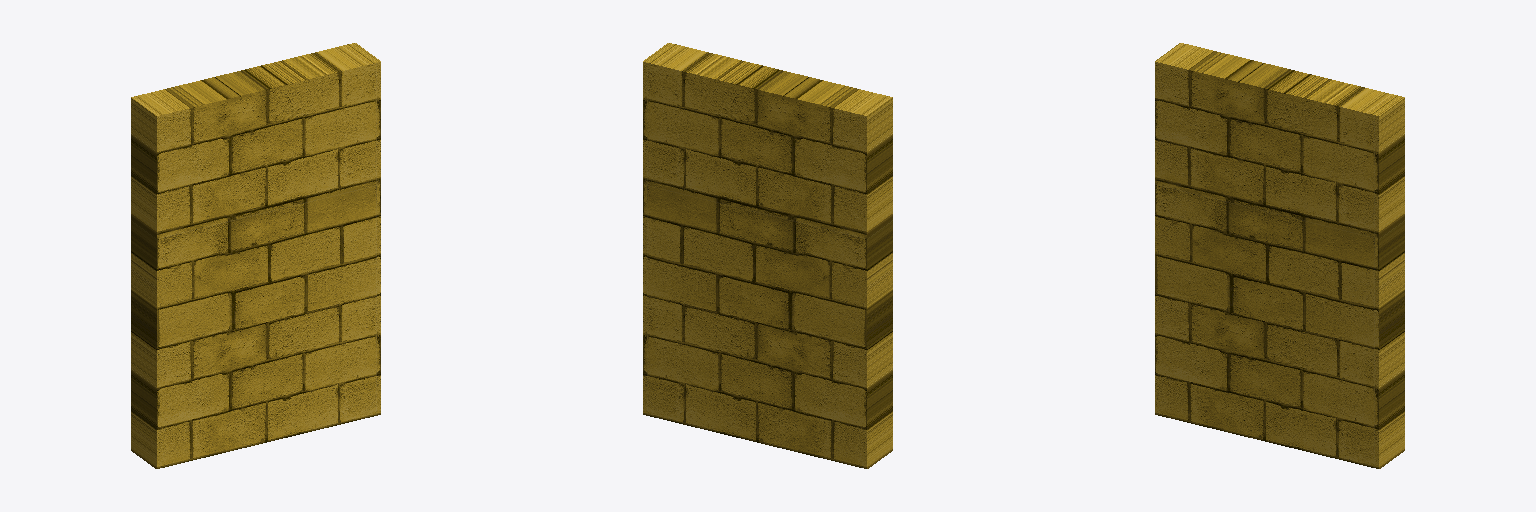
3 renders of one model, left to right at view 1: azimuth 30°, elevation 25°; view 2: azimuth 150°, elevation 25°; view 3: azimuth 330°, elevation 25°, orthographic.
Parts seen in each view (by area): view 1: brick_wall_x1_SF3; view 2: brick_wall_x1_SF3; view 3: brick_wall_x1_SF3.
Boxes of the visible parts, x1,y1,x2,y2 form: brick_wall_x1_SF3: [131, 43, 380, 468]; brick_wall_x1_SF3: [643, 43, 892, 468]; brick_wall_x1_SF3: [1155, 43, 1404, 468].
Bounding box in the file's own units: 200 × 300 × 40.
Materials: 1 (1 with a texture image).